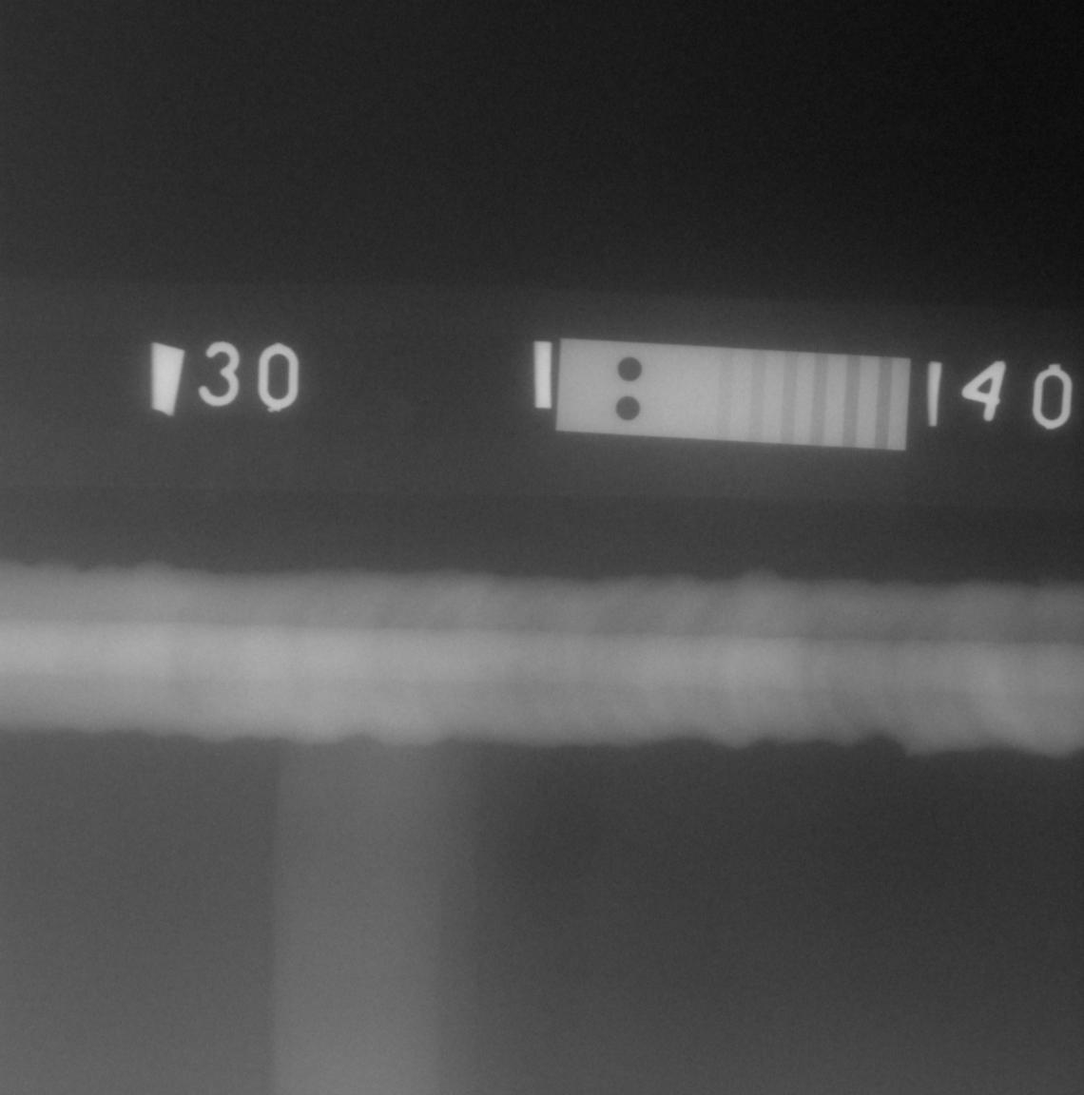Inclusion: (722, 593, 736, 599)
Reference Standard 2: (555, 338, 910, 451)
